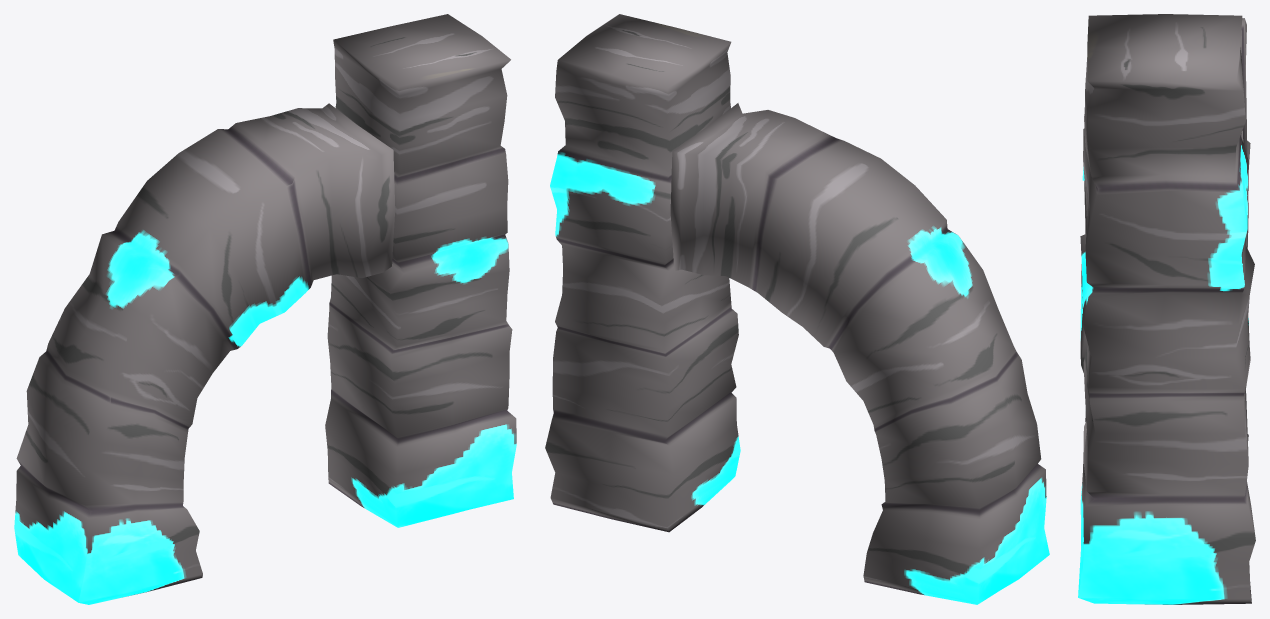
The model's file is RuinArched.fbx.
3 views of the same model, side by side, from view 1: azimuth 30°, elevation 25°; view 2: azimuth 150°, elevation 25°; view 3: azimuth 270°, elevation 25° (orthographic). The views are drawn at different scales.
Visible parts, largest first — view 1: RuinStone; view 2: RuinStone; view 3: RuinStone.
Boxes of the visible parts, x1,y1,x2,y2 form: RuinStone: (14,14,516,604); RuinStone: (545,14,1049,604); RuinStone: (1078,14,1255,604).
Bounding box in the file's own units: 188 × 183 × 55.6.
